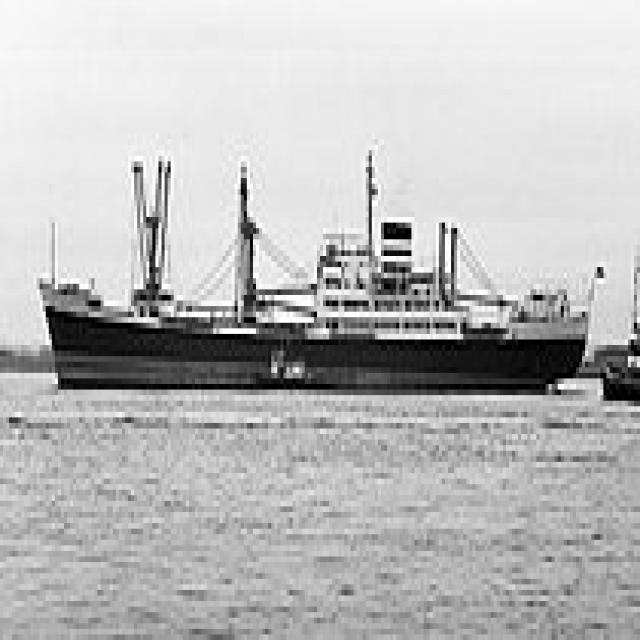Cargo: (31, 128, 600, 395)
